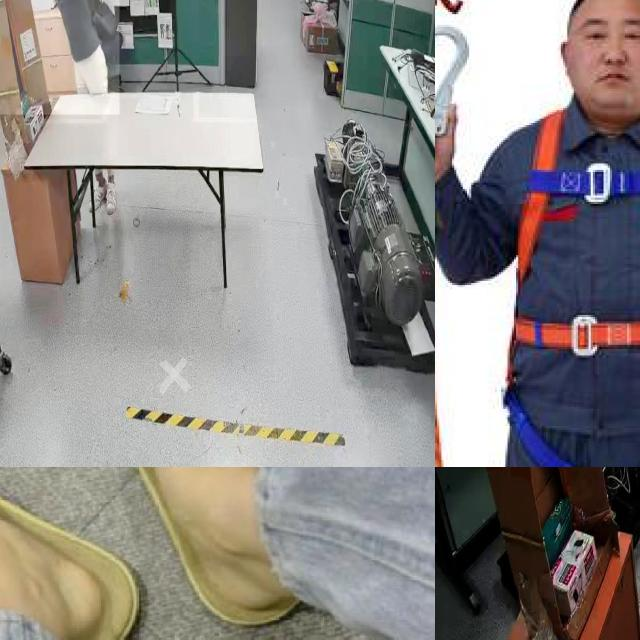Harness: (497, 106, 640, 467)
Sandals: (73, 467, 327, 640), (0, 467, 153, 640)
person: (0, 0, 120, 115)
shoes: (102, 178, 120, 219)
